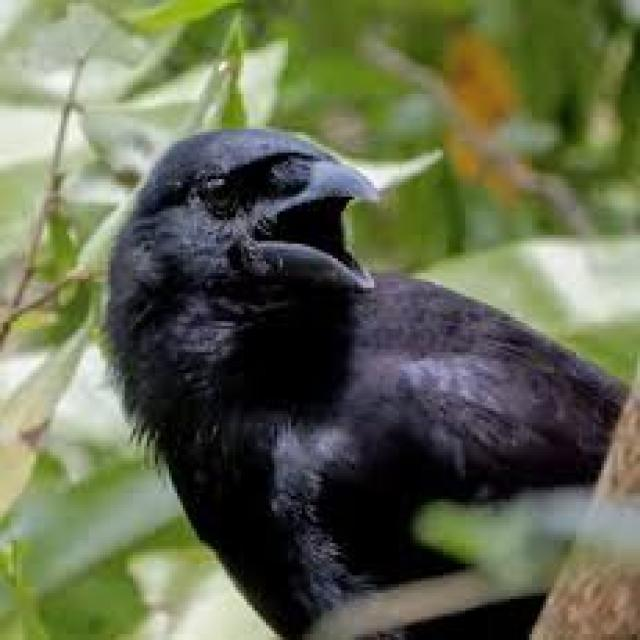crow: (116, 142, 397, 456)
